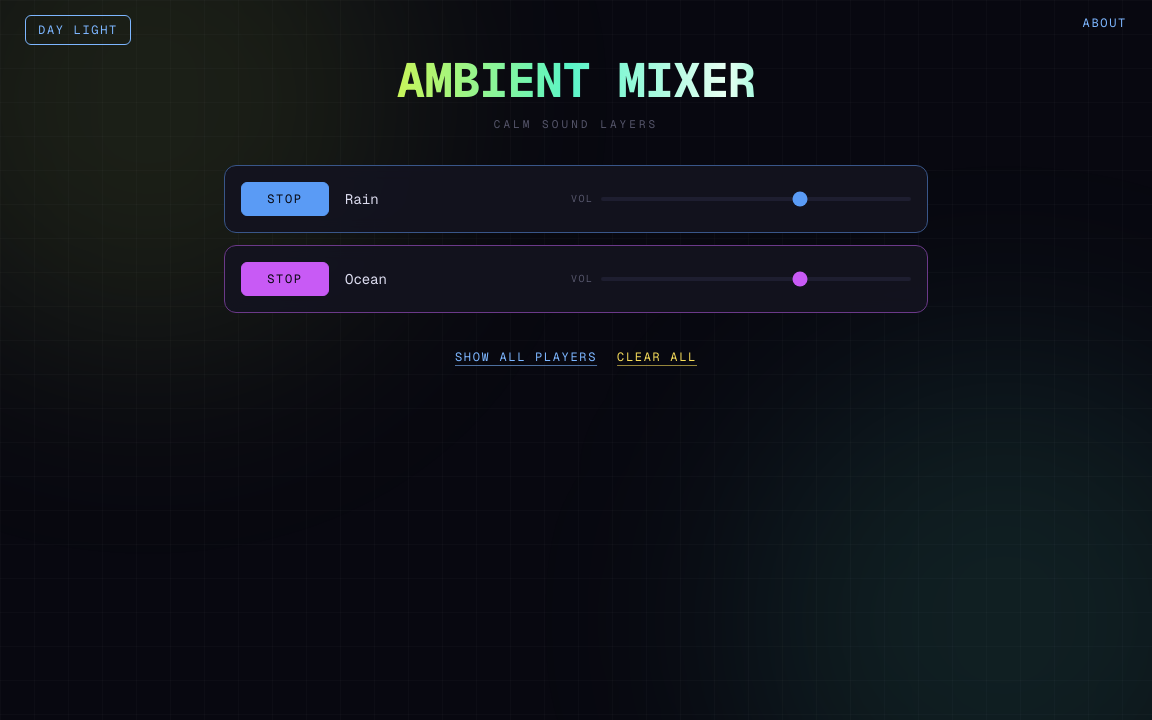
Test: Home page audio state logic › shows play all only when filtered tracks are not all playing
Expected: the button "Play all" is not shown
Click the button "Stop" next to "Rain" at (285, 198), box [241,182,329,216]
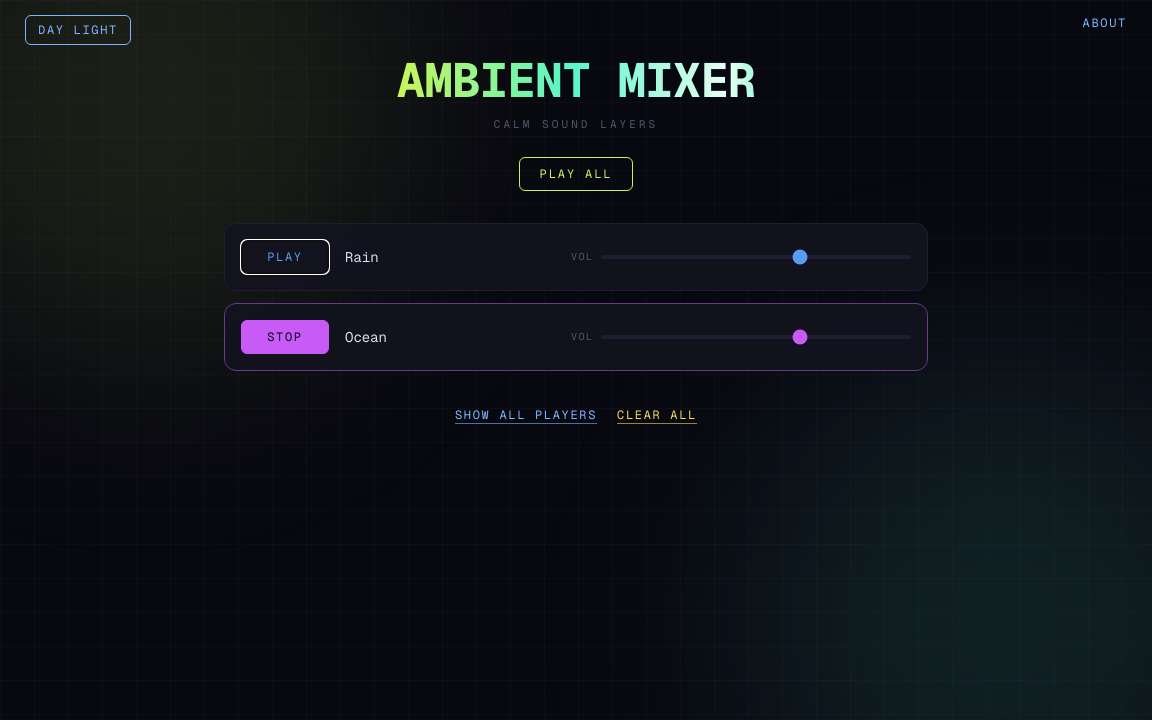
Expected: the button "Play all" is shown, [518,156,634,190]
